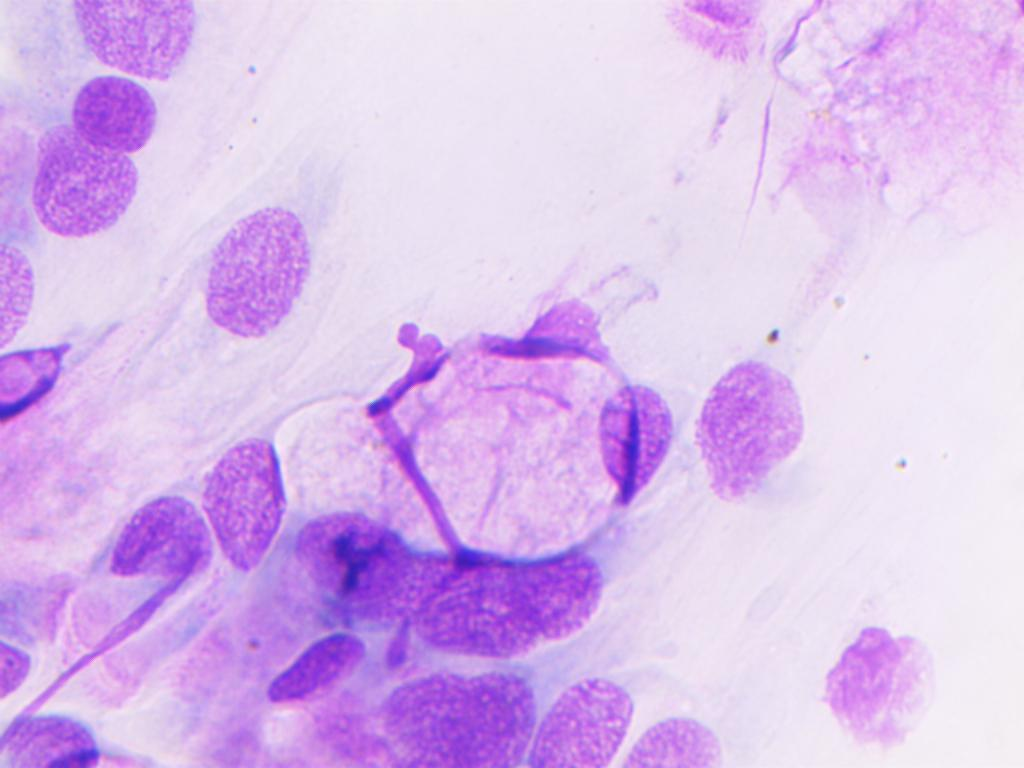epithelial: (171, 196, 349, 354), (685, 337, 818, 505), (822, 600, 955, 768), (388, 666, 537, 768), (570, 369, 677, 504), (18, 126, 141, 242), (197, 434, 294, 574), (300, 506, 414, 617), (528, 664, 647, 768), (68, 0, 210, 86), (103, 499, 218, 593), (510, 288, 624, 377), (246, 631, 367, 710), (63, 72, 173, 155), (0, 698, 126, 768), (626, 700, 739, 768), (0, 226, 52, 347)
goblet_cell: (400, 513, 631, 660)
